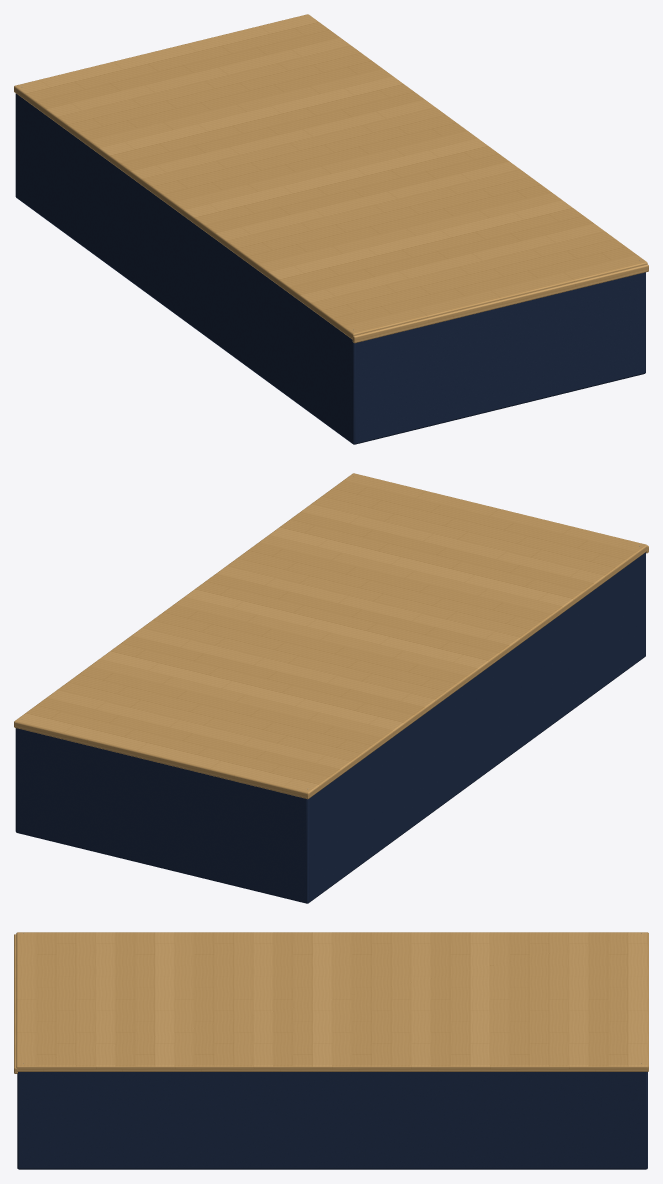
The model's file is 19_stage_deck_module.glb.
3 renders of one model, top to bottom at view 1: azimuth 30°, elevation 25°; view 2: azimuth 150°, elevation 25°; view 3: azimuth 270°, elevation 25°, orthographic. The views are drawn at different scales.
Parts seen in each view (by area): view 1: 19_stage_deck_module__maple_deck, 19_stage_deck_module__navy_solid_fascia, 19_stage_deck_module__wood_front_nosing; view 2: 19_stage_deck_module__maple_deck, 19_stage_deck_module__navy_solid_fascia; view 3: 19_stage_deck_module__maple_deck, 19_stage_deck_module__navy_solid_fascia, 19_stage_deck_module__wood_front_nosing.
Boxes of the visible parts, <box> form: 19_stage_deck_module__maple_deck: <box>14,14,647,339</box>; 19_stage_deck_module__navy_solid_fascia: <box>15,93,645,444</box>; 19_stage_deck_module__wood_front_nosing: <box>352,264,648,343</box>; 19_stage_deck_module__maple_deck: <box>14,473,647,799</box>; 19_stage_deck_module__navy_solid_fascia: <box>15,552,645,903</box>; 19_stage_deck_module__maple_deck: <box>16,932,648,1071</box>; 19_stage_deck_module__navy_solid_fascia: <box>17,1072,647,1169</box>; 19_stage_deck_module__wood_front_nosing: <box>14,934,17,1073</box>.
Bounding box in the file's own units: 2.01 × 0.734 × 4.03.
3 materials, 3 textured.
